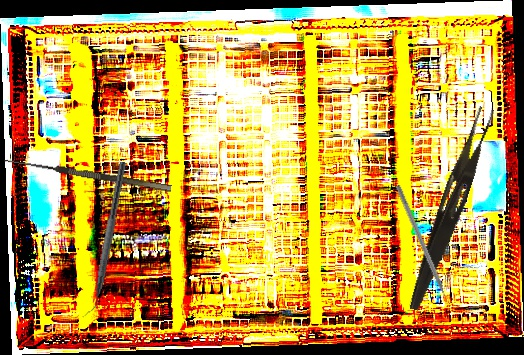Chopper: (81, 159, 127, 321)
Dressing Forceps: (405, 103, 496, 315)
Hook Surgical: (2, 155, 172, 202), (394, 184, 454, 313)
